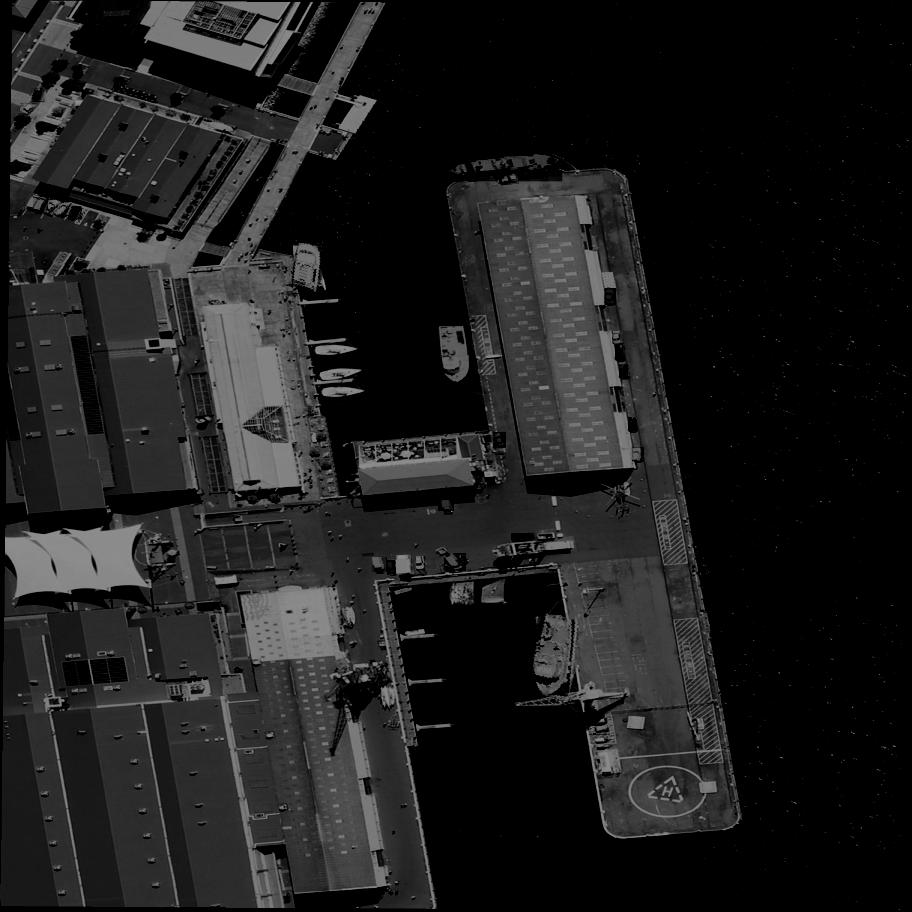large-vehicle: (397, 556, 411, 574), (511, 533, 533, 540)
ship: (529, 613, 580, 701), (448, 150, 564, 182), (439, 326, 471, 385), (293, 243, 325, 294)
small-vehicle: (444, 552, 465, 576), (44, 199, 63, 218), (25, 193, 42, 212), (438, 497, 455, 515), (21, 101, 38, 118), (589, 723, 611, 736), (34, 195, 49, 214), (373, 557, 388, 575), (69, 205, 83, 223), (31, 86, 45, 104), (58, 201, 72, 218), (498, 175, 519, 186), (494, 432, 507, 448), (605, 289, 617, 306), (631, 448, 645, 462), (587, 718, 607, 727), (616, 345, 625, 361), (388, 561, 397, 575), (417, 557, 426, 570), (613, 331, 622, 344), (619, 365, 627, 377), (628, 418, 635, 430)
